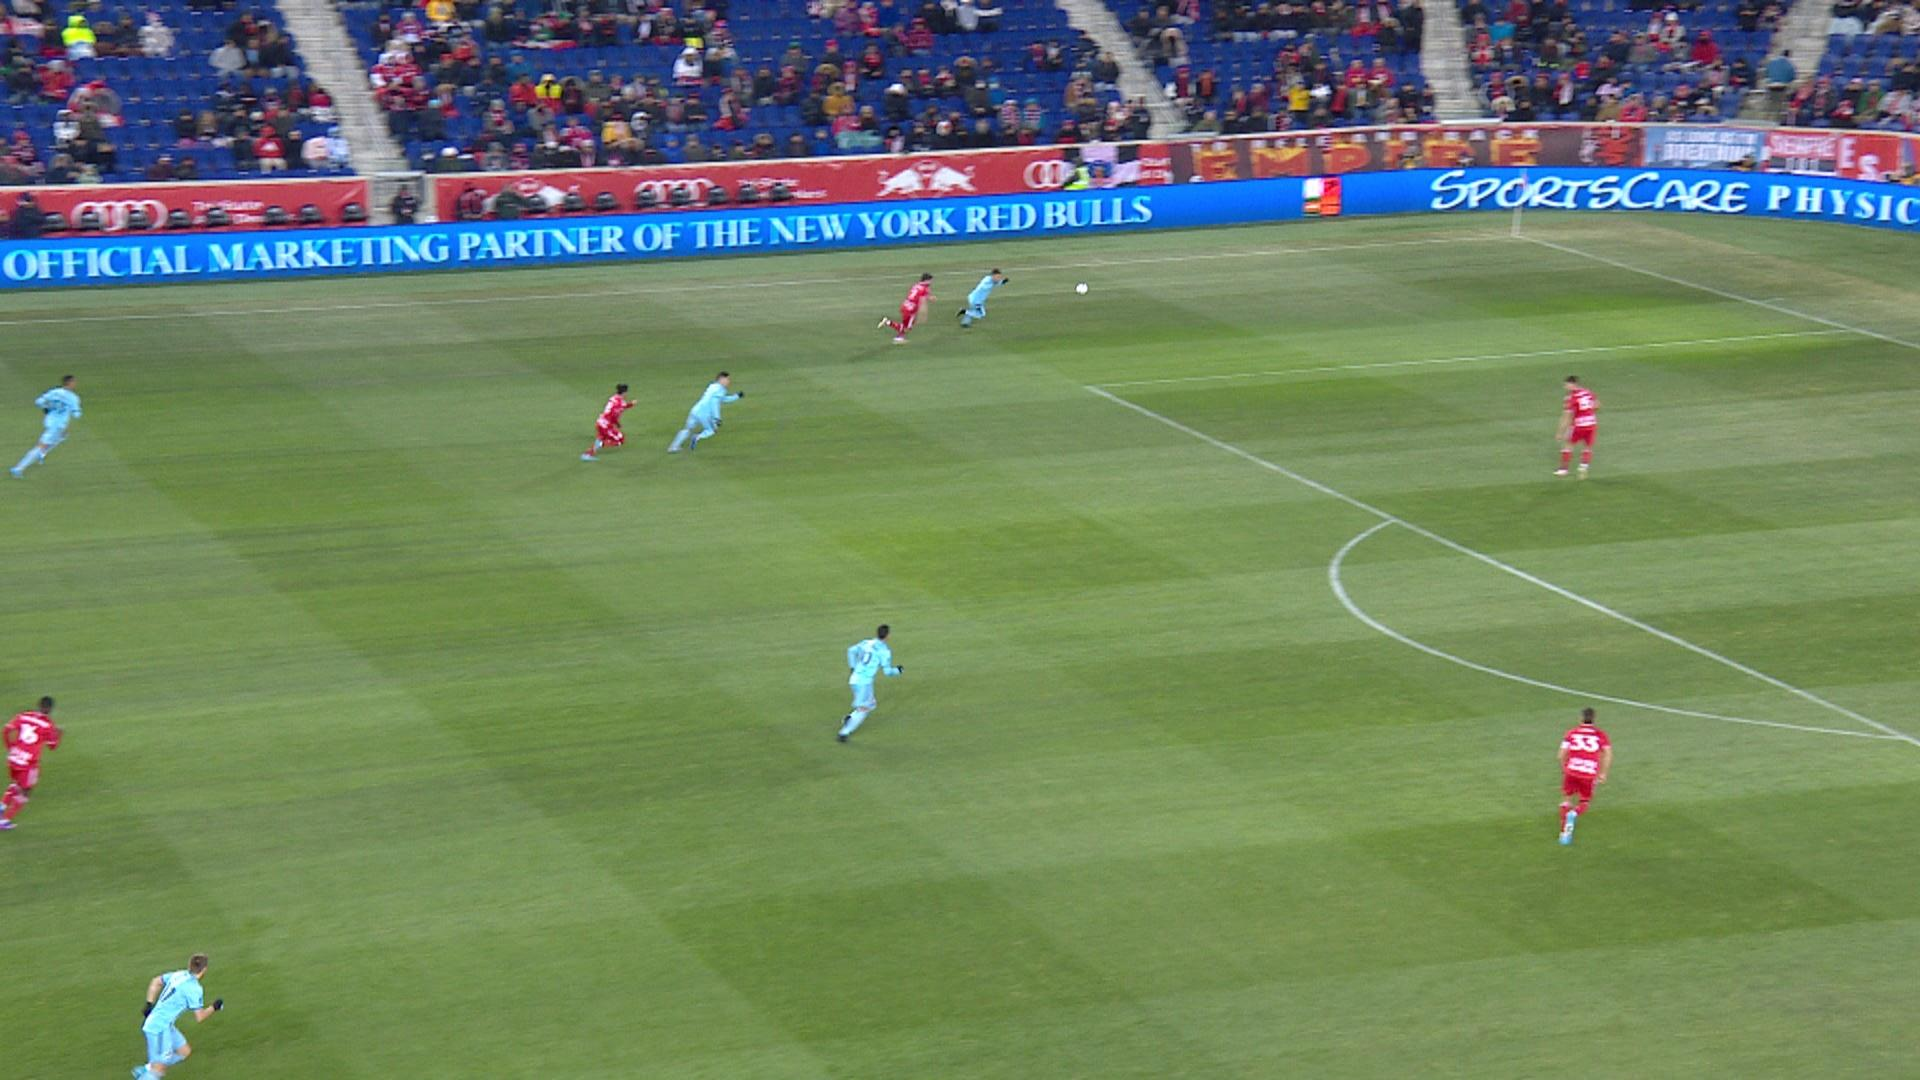football: (1074, 281, 1089, 296)
